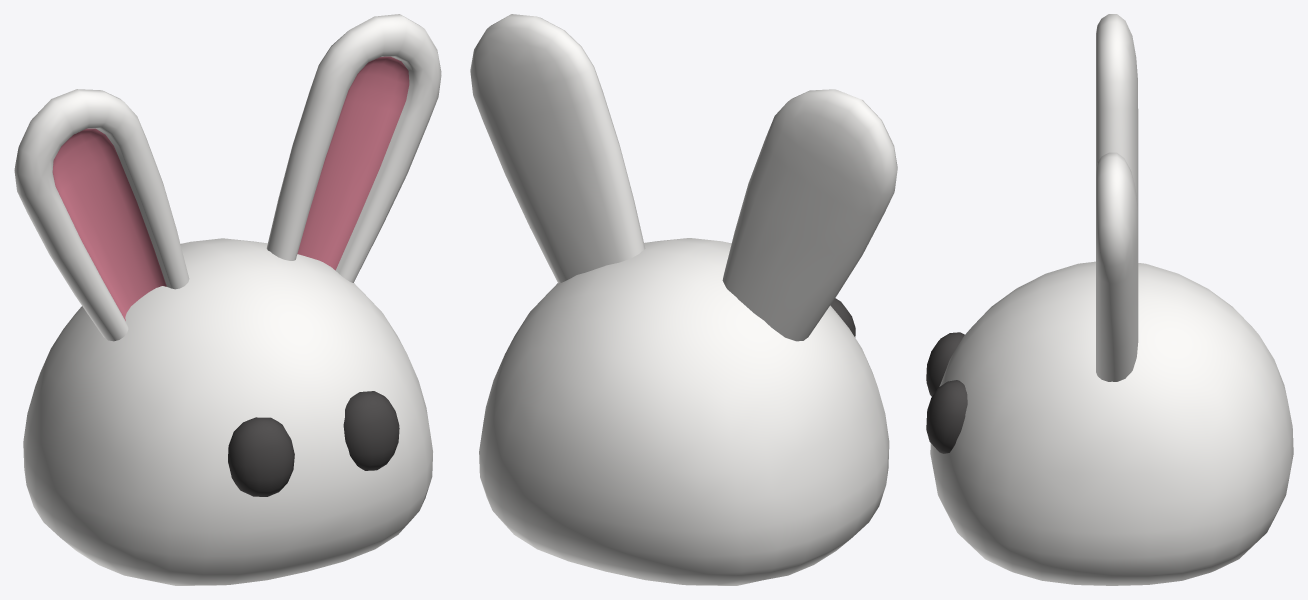
Rendered from Doll_rabbit.glb.
3 views of the same model, side by side, from view 1: azimuth 30°, elevation 25°; view 2: azimuth 150°, elevation 25°; view 3: azimuth 270°, elevation 25° (orthographic). The views are drawn at different scales.
Parts seen in each view (by area): view 1: Toy_Rabbit_1; view 2: Toy_Rabbit_1; view 3: Toy_Rabbit_1.
Part boxes in pixels (left/top/right/bottom): Toy_Rabbit_1: left=14, top=14, right=441, bottom=585; Toy_Rabbit_1: left=470, top=14, right=897, bottom=585; Toy_Rabbit_1: left=926, top=14, right=1293, bottom=585.
Bounding box in the file's own units: 0.5455 × 0.5871 × 0.4417.
1 material, 1 textured.
